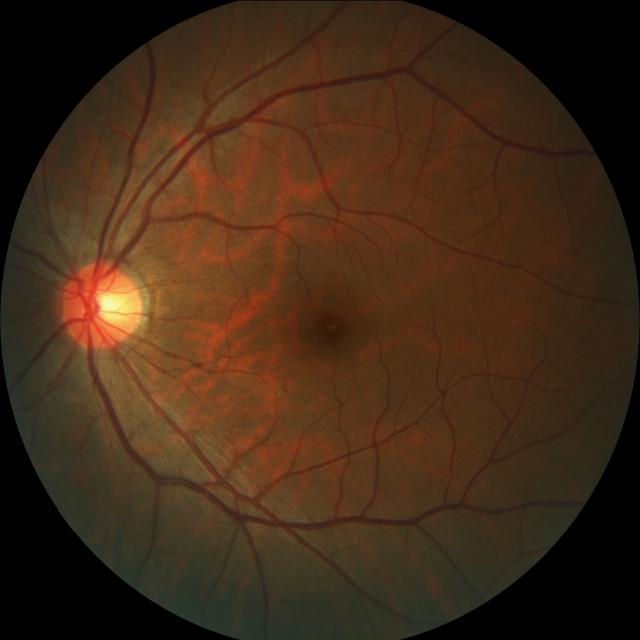OC: (87, 287, 125, 322)
OD: (62, 261, 146, 348)
